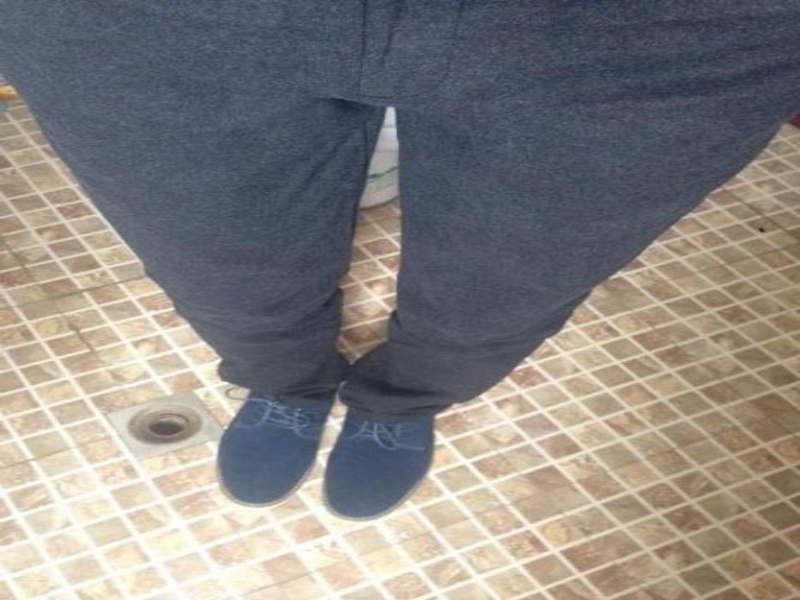trousers: (0, 0, 798, 430)
